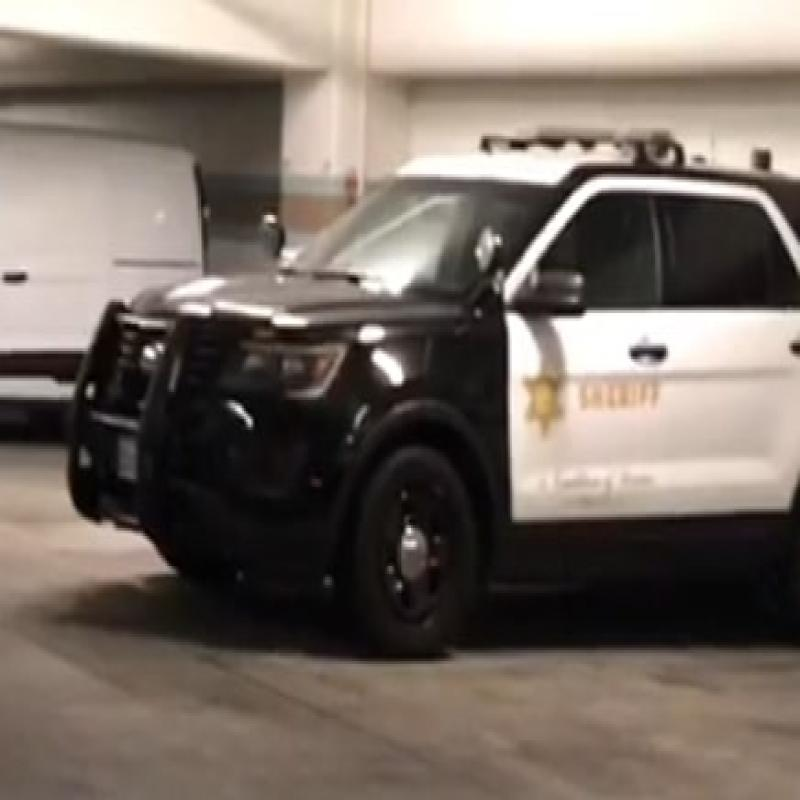AmbulanceSiren: (477, 87, 668, 184)
